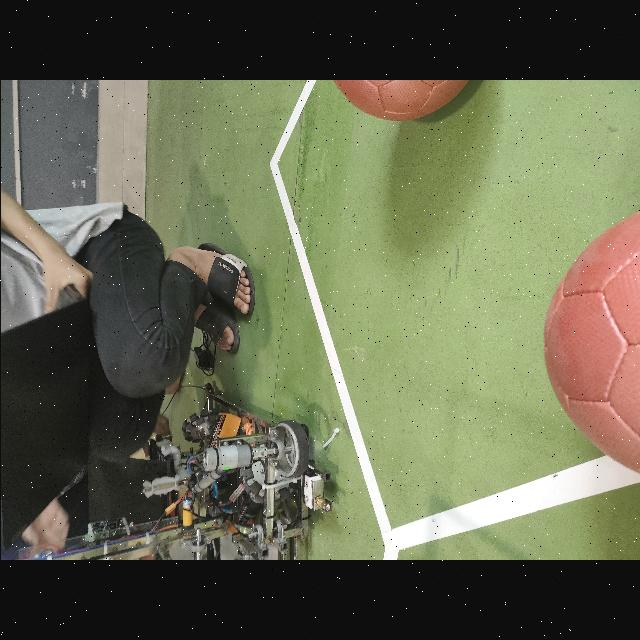R: (542, 203, 640, 482), (328, 80, 480, 121)
